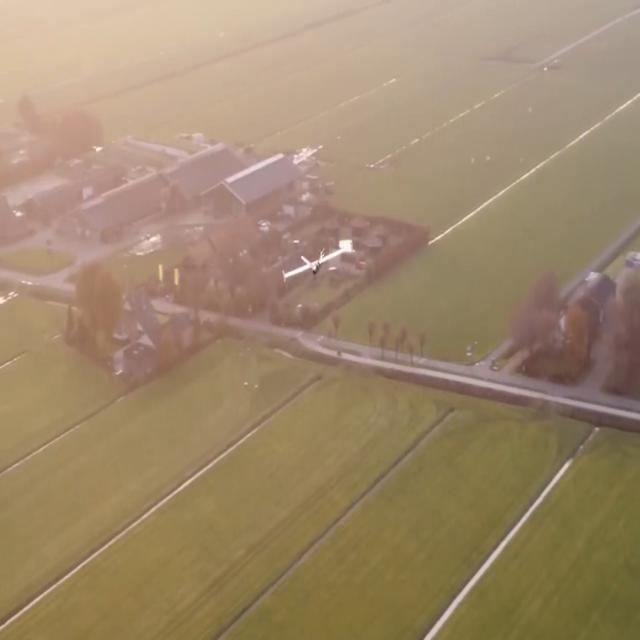iha: (319, 233, 322, 289)
